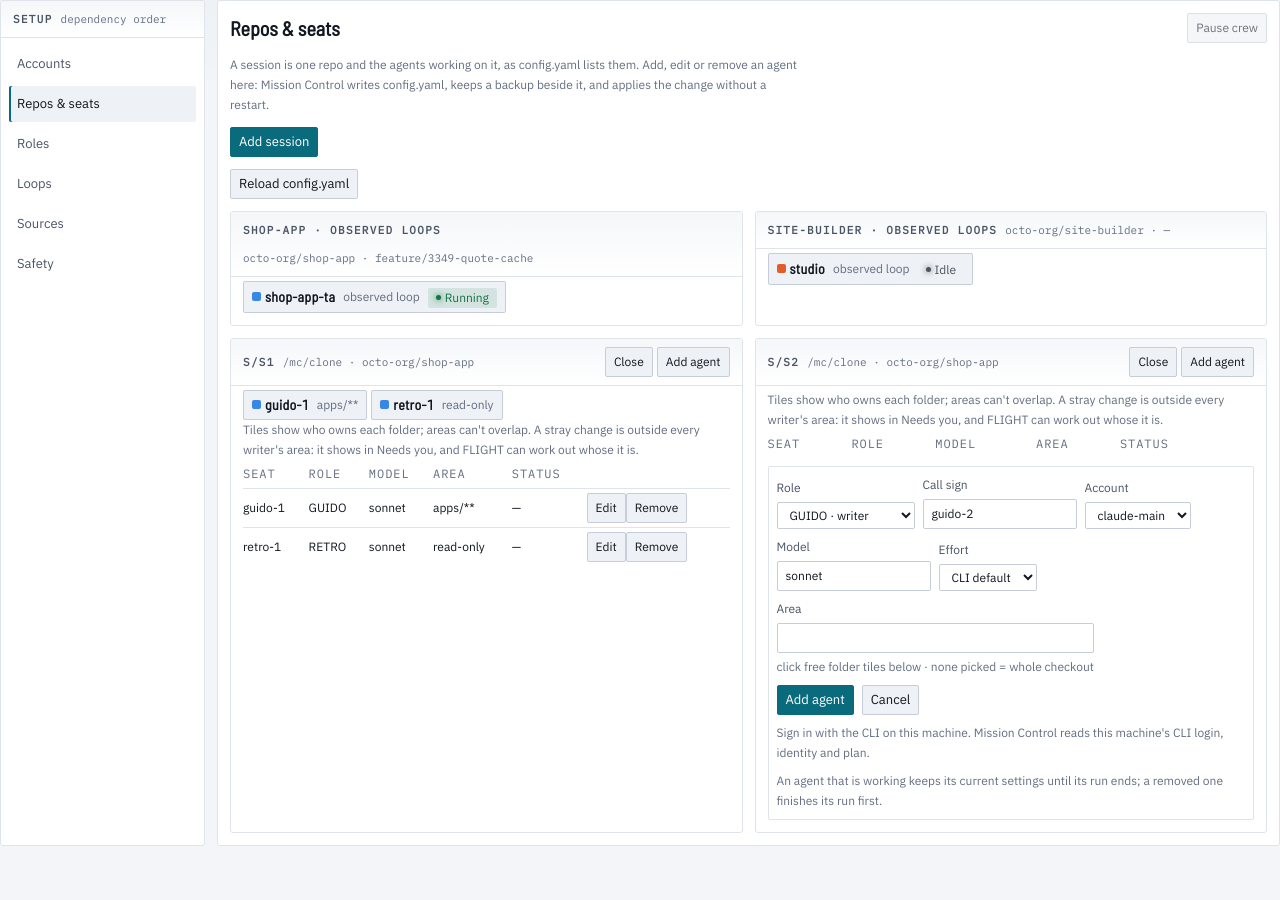
Setup tabs › Sessions: seats › ?add=s2 opens only the matching session's form
This screenshot has width=1280, height=900.
Expected: the element "s/s2" is shown, x1=754 y1=338 x2=1267 y2=832
Click the button "Cancel": (891, 700) x1=862 y1=684 x2=919 y2=714
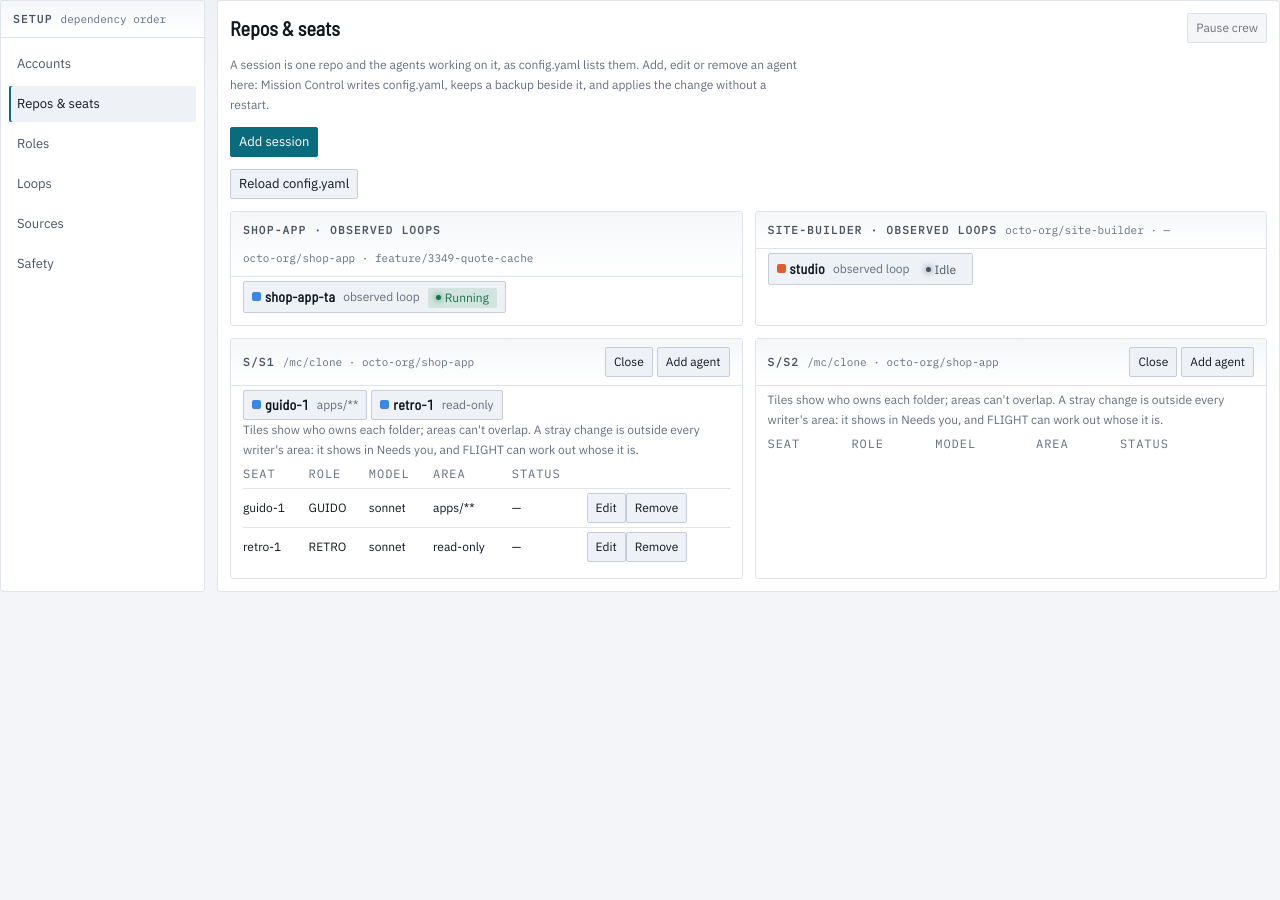
Now the form is gone
